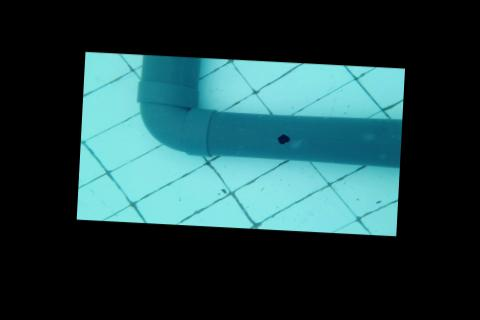kebocoran: (274, 132, 293, 145)
